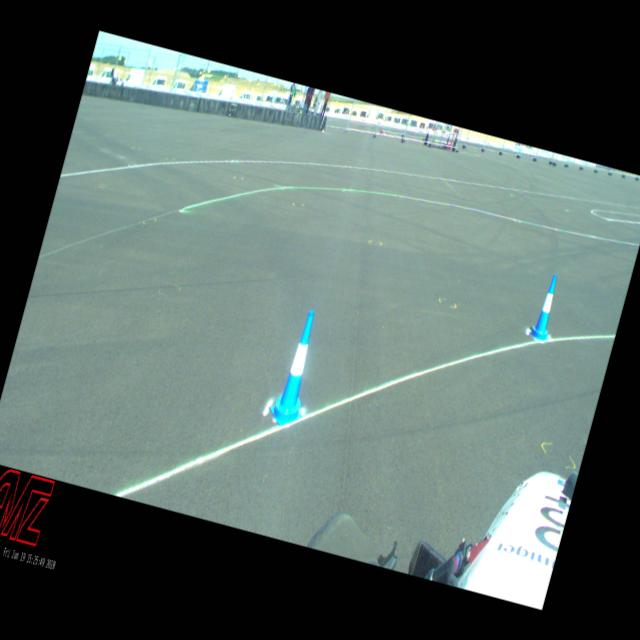blue_cone: (266, 307, 328, 430), (527, 272, 565, 344)
